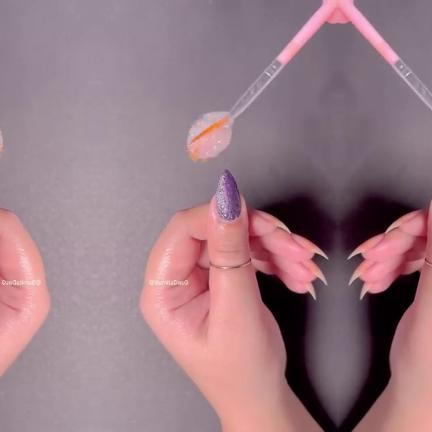Nail: (214, 169, 240, 221)
